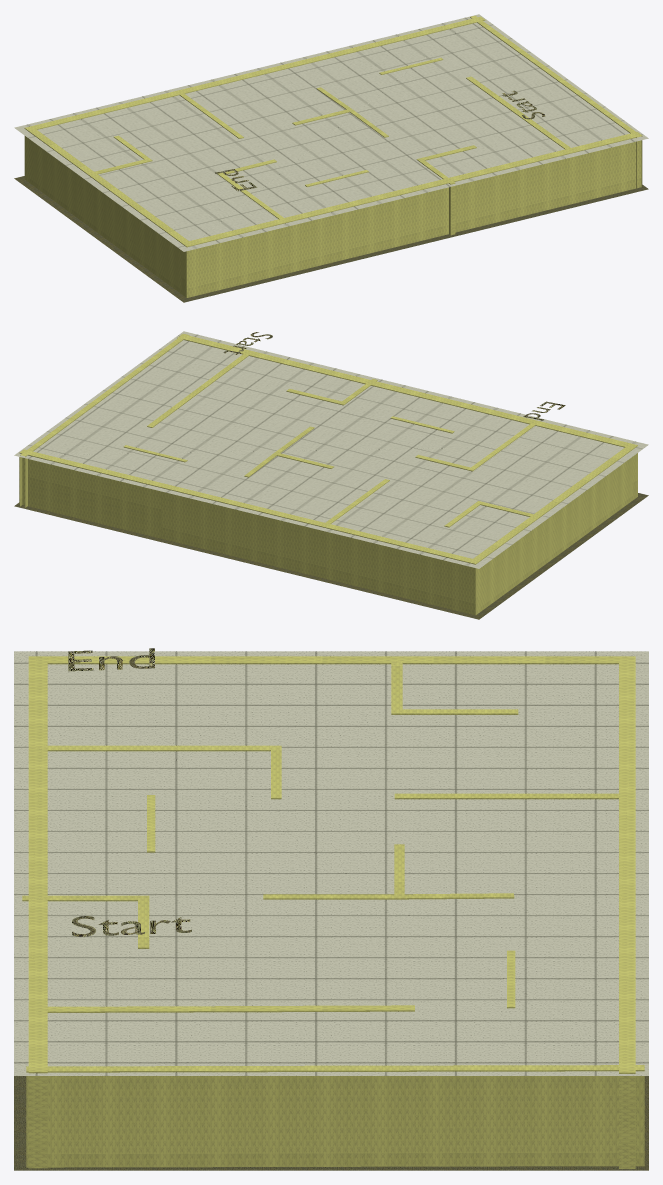
File: backrooms.glb
3 renders of one model, top to bottom at view 1: azimuth 30°, elevation 25°; view 2: azimuth 150°, elevation 25°; view 3: azimuth 270°, elevation 25°, orthographic. The views are drawn at different scales.
Visible parts, largest first — view 1: Plane.001, Cube, Plane; view 2: Plane.001, Cube, Plane; view 3: Plane.001, Cube, Plane, Text, Text.001.
Part boxes in pixels (x1,y1,x2,y2): Plane.001: (14, 14, 648, 251); Cube: (24, 15, 642, 297); Plane: (14, 176, 648, 302); Plane.001: (14, 331, 648, 568); Cube: (19, 334, 637, 615); Plane: (14, 493, 648, 619); Plane.001: (14, 651, 648, 1075); Cube: (22, 656, 644, 1168); Plane: (14, 1076, 648, 1170); Text: (72, 916, 191, 936); Text.001: (68, 648, 154, 671).
Size of the model in its own units: 64.47 by 11.4 by 40.76.
Materials: 4 (3 with a texture image).
